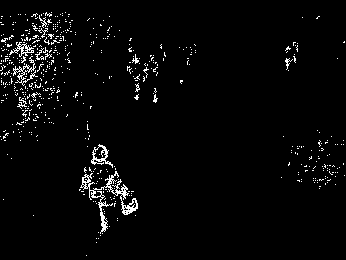person: (78, 142, 141, 234)
